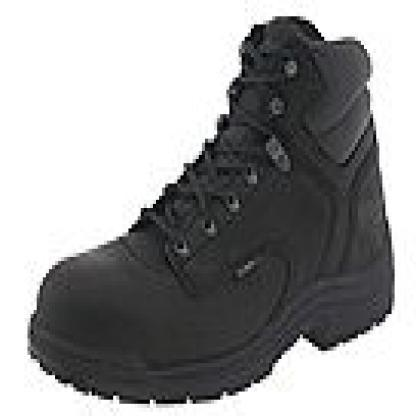bota: (24, 15, 404, 400)
